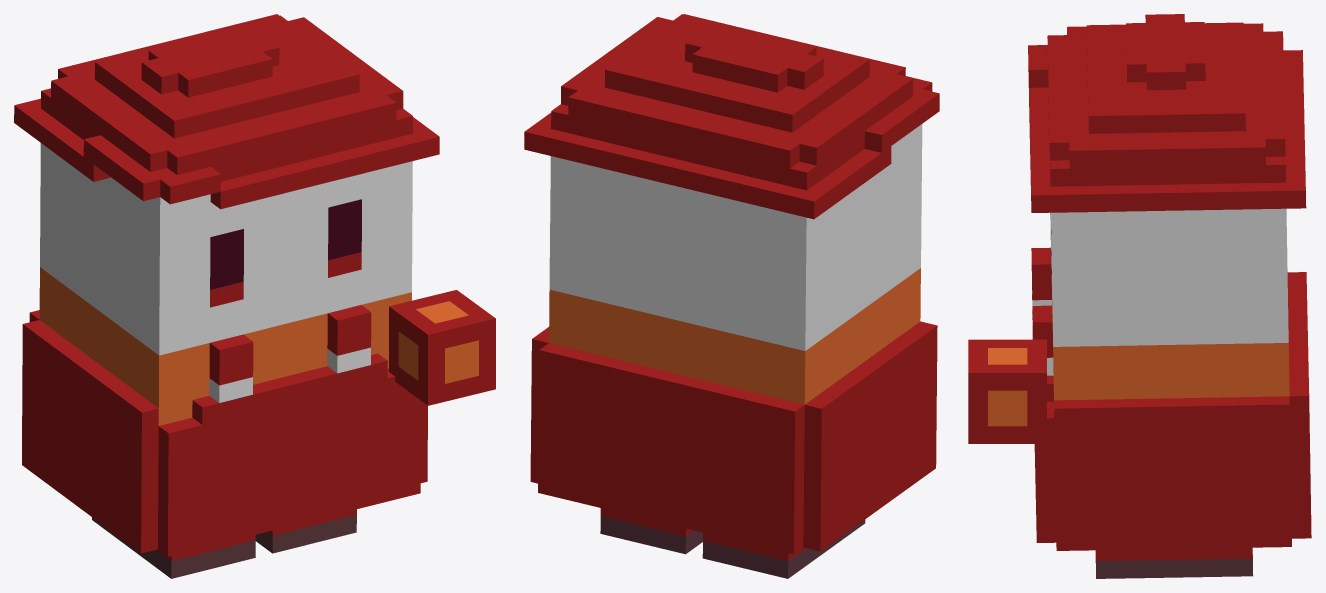
Rendered from p4_grab.gltf.
3 views of the same model, side by side, from view 1: azimuth 30°, elevation 25°; view 2: azimuth 150°, elevation 25°; view 3: azimuth 270°, elevation 25° (orthographic).
Visible parts, largest first — view 1: Object_0.001, Object_0.004; view 2: Object_0.001; view 3: Object_0.001, Object_0.004.
Part boxes in pixels (bbox=[...]): Object_0.001: bbox=[14, 14, 439, 578]; Object_0.004: bbox=[389, 290, 495, 405]; Object_0.001: bbox=[524, 14, 939, 578]; Object_0.001: bbox=[1028, 14, 1311, 578]; Object_0.004: bbox=[968, 339, 1046, 443].
Bounding box in the file's own units: 1.86 × 2.71 × 1.75.
2 materials, 2 textured.
